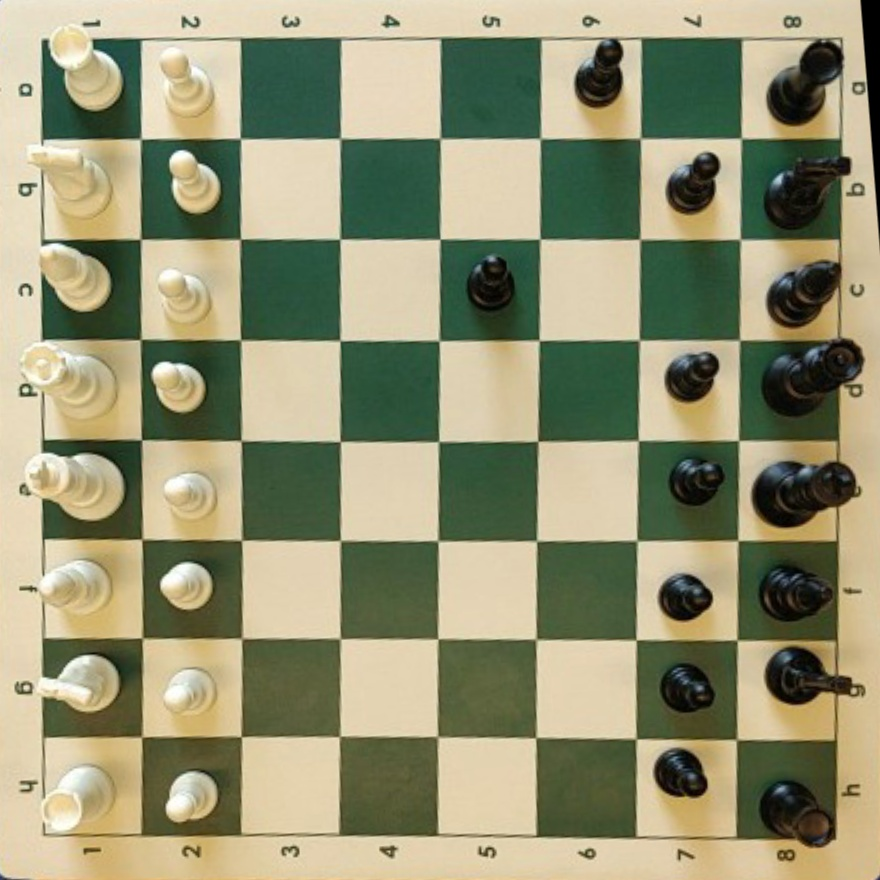black-bishop: (768, 261, 841, 326), (760, 564, 833, 621)
black-king: (753, 460, 858, 527)
black-knight: (764, 155, 850, 228), (766, 648, 865, 704)
black-pawn: (575, 38, 625, 106), (662, 660, 718, 720), (667, 152, 721, 212), (654, 749, 708, 798), (666, 352, 720, 401), (670, 457, 725, 505), (467, 255, 515, 309), (659, 573, 713, 620)
black-queen: (763, 339, 864, 415)
black-rook: (768, 40, 843, 124), (760, 779, 834, 847)
white-bishop: (36, 559, 111, 614), (62, 260, 118, 320)
white-king: (21, 451, 124, 521)
white-knight: (23, 142, 112, 217), (62, 660, 118, 720)
white-pawn: (160, 50, 214, 117), (168, 149, 221, 214), (157, 269, 210, 325), (164, 770, 218, 824), (150, 360, 205, 413), (159, 560, 213, 610), (162, 471, 215, 519), (163, 667, 214, 714)
white-queen: (19, 345, 117, 418)
white-rook: (49, 27, 123, 112), (41, 764, 114, 834)
